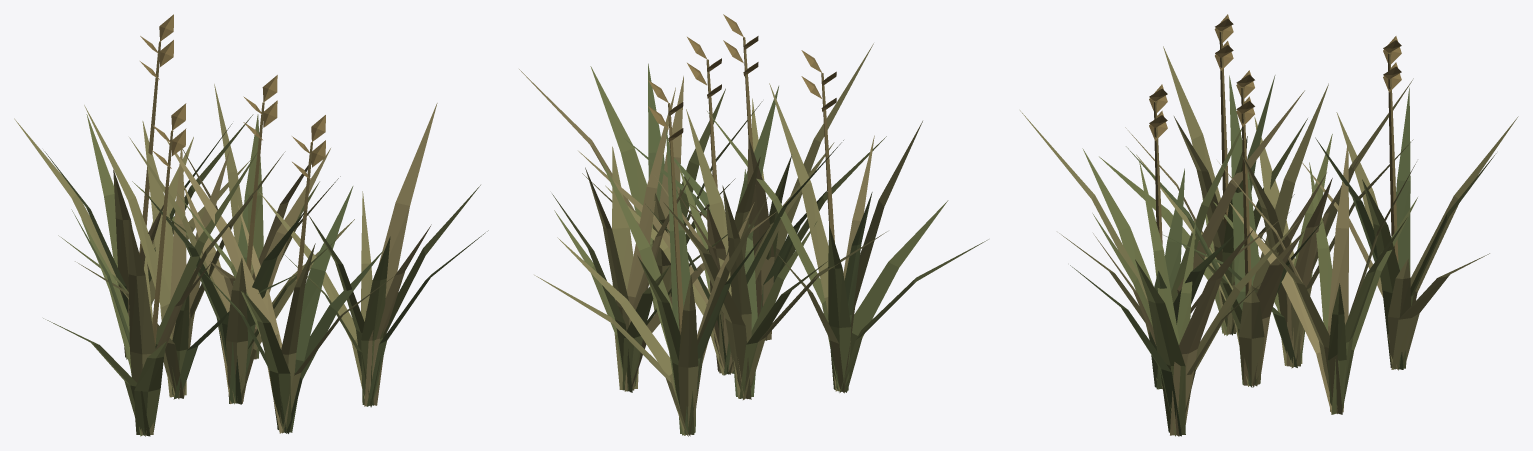
The model's file is shore-grass.glb.
3 views of the same model, side by side, from view 1: azimuth 30°, elevation 25°; view 2: azimuth 150°, elevation 25°; view 3: azimuth 270°, elevation 25° (orthographic). The views are drawn at different scales.
Parts seen in each view (by area): view 1: Sedge patch / arching blades and seed heads; view 2: Sedge patch / arching blades and seed heads; view 3: Sedge patch / arching blades and seed heads.
Part boxes in pixels (x1,y1,x2,y2): Sedge patch / arching blades and seed heads: (14,14,488,436); Sedge patch / arching blades and seed heads: (519,14,988,436); Sedge patch / arching blades and seed heads: (1020,14,1518,436).
Size of the model in its own units: 1.13 by 0.8436 by 1.1.
